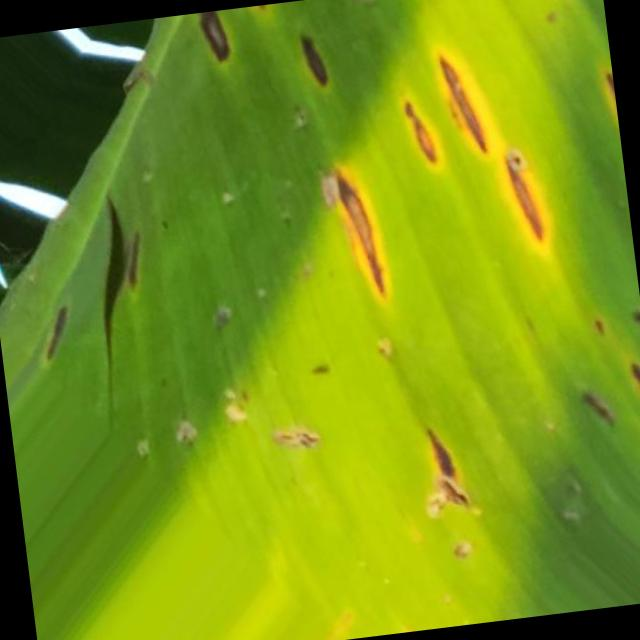Banana_Yellow_Sigatoka: (423, 13, 624, 288), (15, 195, 225, 376), (406, 386, 516, 551), (314, 144, 406, 296), (386, 82, 454, 181), (284, 22, 356, 88)
